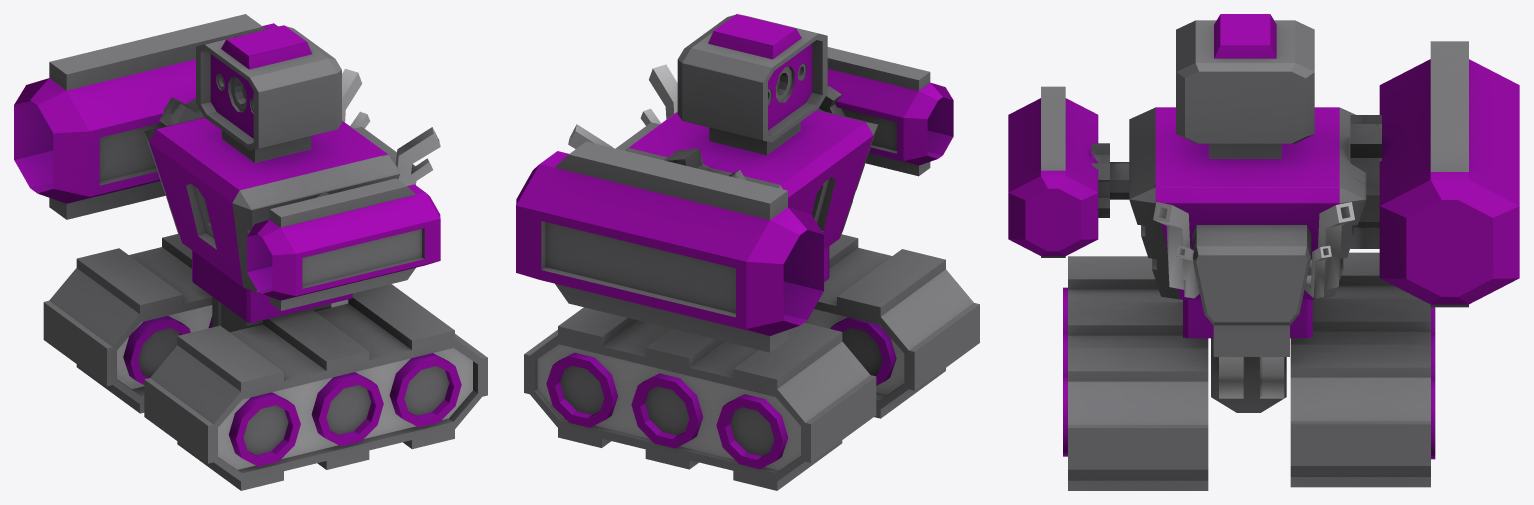
Rendered from Enemy2_Move6.obj.
3 views of the same model, side by side, from view 1: azimuth 30°, elevation 25°; view 2: azimuth 150°, elevation 25°; view 3: azimuth 270°, elevation 25° (orthographic). The views are drawn at different scales.
Visible parts, largest first — view 1: Object006, Object007, Object010, Object009; view 2: Object006, Object007, Object010, Object009; view 3: Object006, Object007, Object010, Object009, Object008.
Boxes of the visible parts, x1,y1,x2,y2 form: Object006: [14, 14, 487, 490]; Object007: [144, 25, 399, 332]; Object010: [331, 68, 440, 307]; Object009: [159, 97, 203, 125]; Object006: [516, 47, 979, 490]; Object007: [626, 14, 878, 323]; Object010: [568, 64, 677, 150]; Object009: [664, 148, 745, 180]; Object006: [1008, 41, 1519, 490]; Object007: [1129, 14, 1366, 412]; Object010: [1153, 202, 1354, 398]; Object009: [1350, 115, 1381, 248]; Object008: [1091, 143, 1129, 217].
Size of the model in its own units: 87.45 by 109 by 125.
